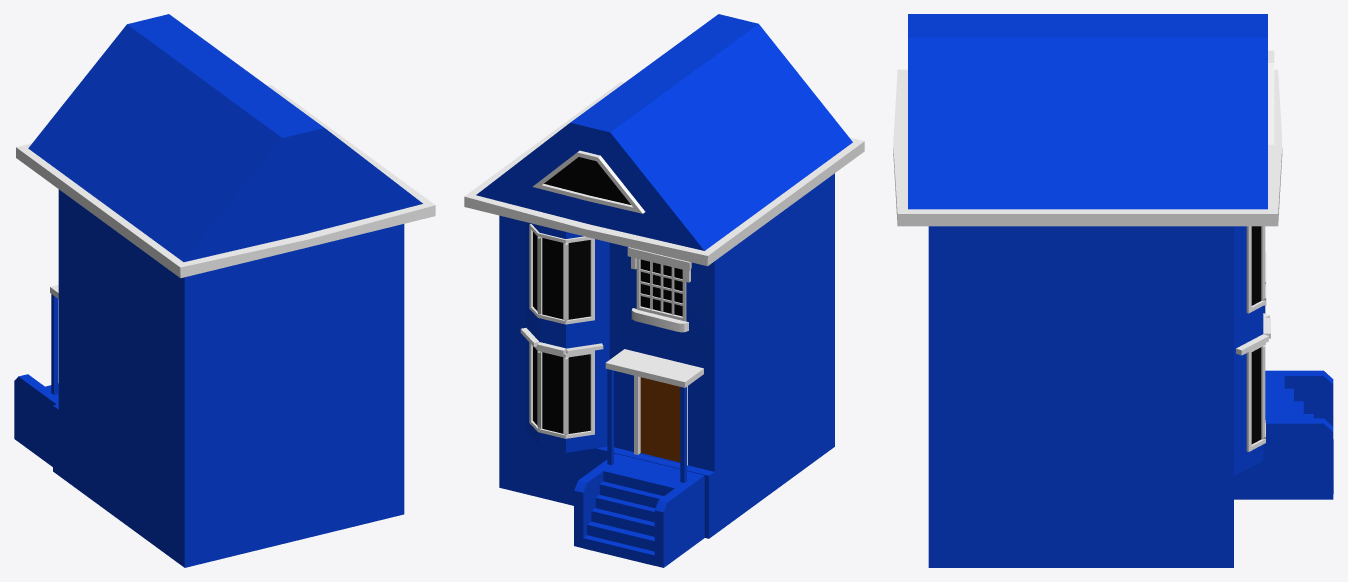
File: houseresidentielblue.fbx
3 renders of one model, left to right at view 1: azimuth 30°, elevation 25°; view 2: azimuth 150°, elevation 25°; view 3: azimuth 270°, elevation 25°, orthographic. The views are drawn at different scales.
Parts seen in each view (by area): view 1: houseresidentielblue; view 2: houseresidentielblue; view 3: houseresidentielblue.
Part boxes in pixels (left/top/right/bottom): houseresidentielblue: left=14, top=14, right=435, bottom=567; houseresidentielblue: left=464, top=14, right=864, bottom=567; houseresidentielblue: left=893, top=14, right=1333, bottom=567.
Bounding box in the file's own units: 637 × 989 × 822.
